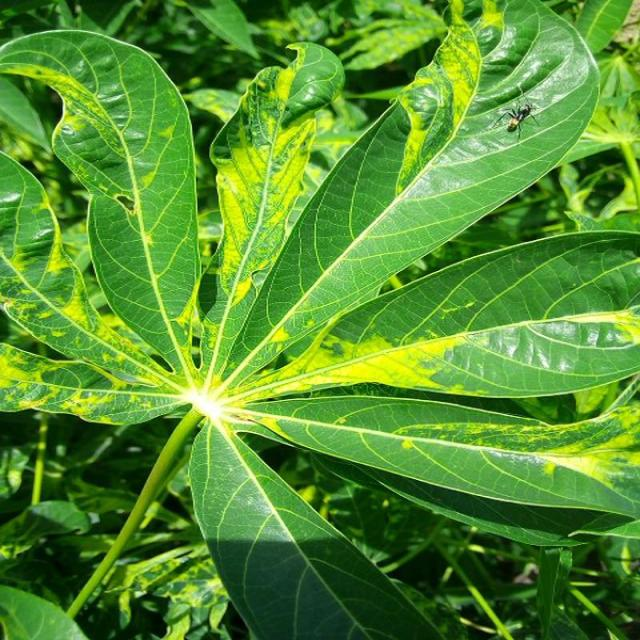cassava leaf: (0, 2, 638, 636), (223, 0, 602, 386), (0, 27, 201, 376)
